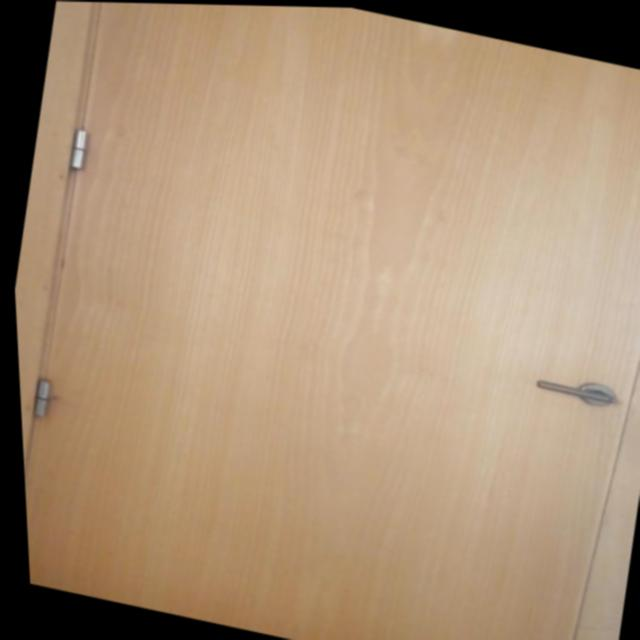door_handle: (523, 372, 617, 405)
